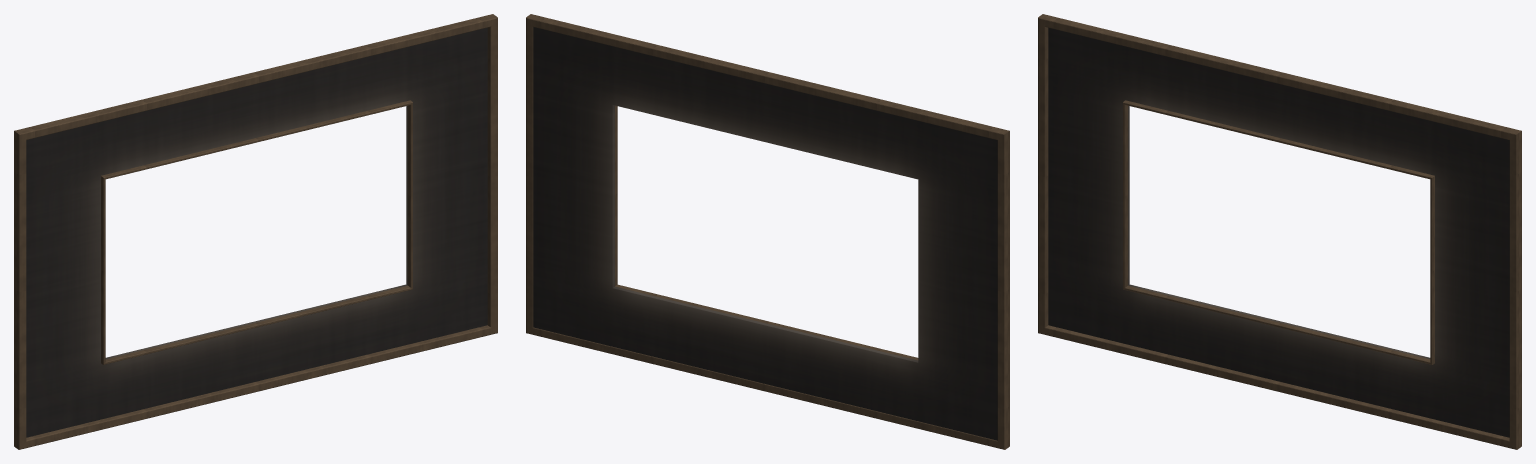
File: bronze.glb
3 renders of one model, left to right at view 1: azimuth 30°, elevation 25°; view 2: azimuth 150°, elevation 25°; view 3: azimuth 330°, elevation 25°, orthographic.
Parts seen in each view (by area): view 1: mat, frame, fillet; view 2: mat, frame, fillet; view 3: mat, frame, fillet.
Boxes of the visible parts, <box> form: mat: <box>26,27,487,437</box>; frame: <box>14,14,497,449</box>; fillet: <box>101,100,412,364</box>; mat: <box>533,27,997,440</box>; frame: <box>526,14,1009,449</box>; fillet: <box>615,105,918,360</box>; mat: <box>1048,27,1509,437</box>; frame: <box>1038,14,1521,449</box>; fillet: <box>1123,100,1434,364</box>.
Bounding box in the file's own units: 2.57 × 1.62 × 0.05.
2 materials, 2 textured.
